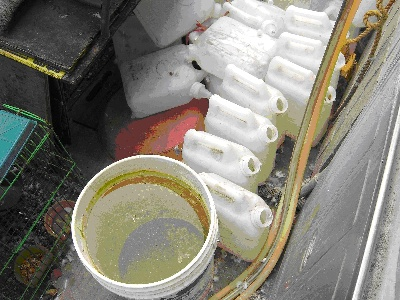bucket: (68, 155, 222, 299), (192, 170, 275, 263), (113, 45, 210, 120), (206, 92, 279, 188), (262, 53, 336, 146), (182, 129, 261, 210), (187, 15, 277, 81)
